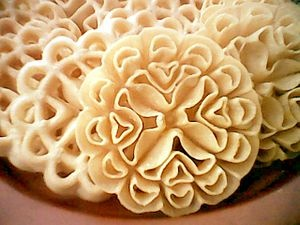kembang_goyang: (76, 30, 256, 212)
